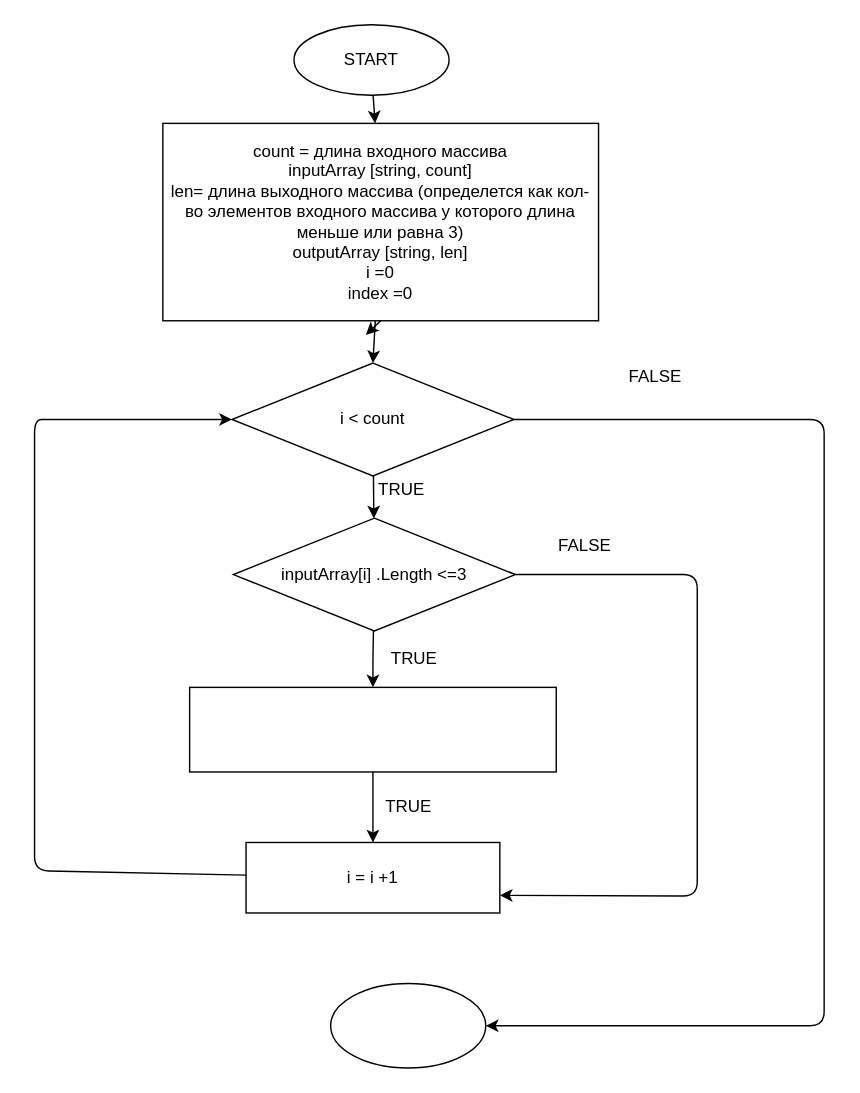
Image size: 860x1093. Some labels were removed from this diagram. The box of each missing label's shape, as (x1, y1, x2, y2) in pixels:
END: (329, 982, 486, 1068)
outpauArray[index] = inputArray[i] index = index + 1: (188, 686, 556, 772)
